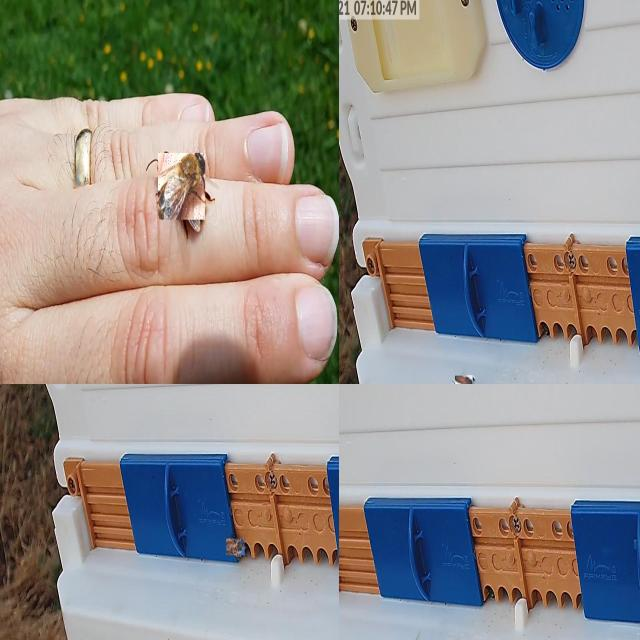honeybee: (158, 152, 208, 219), (225, 531, 251, 562)
